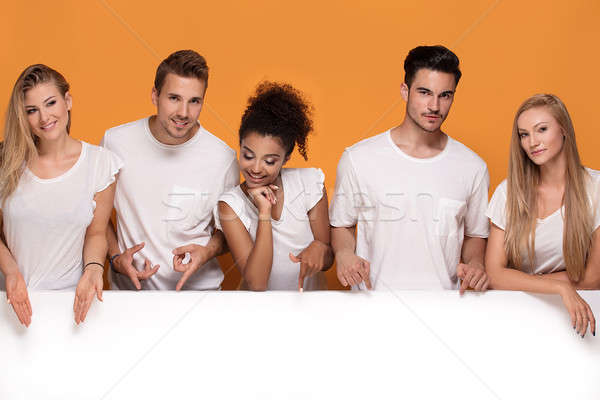person: (354, 44, 484, 223), (117, 48, 233, 194), (493, 92, 588, 239), (8, 59, 98, 207), (229, 92, 322, 220)
